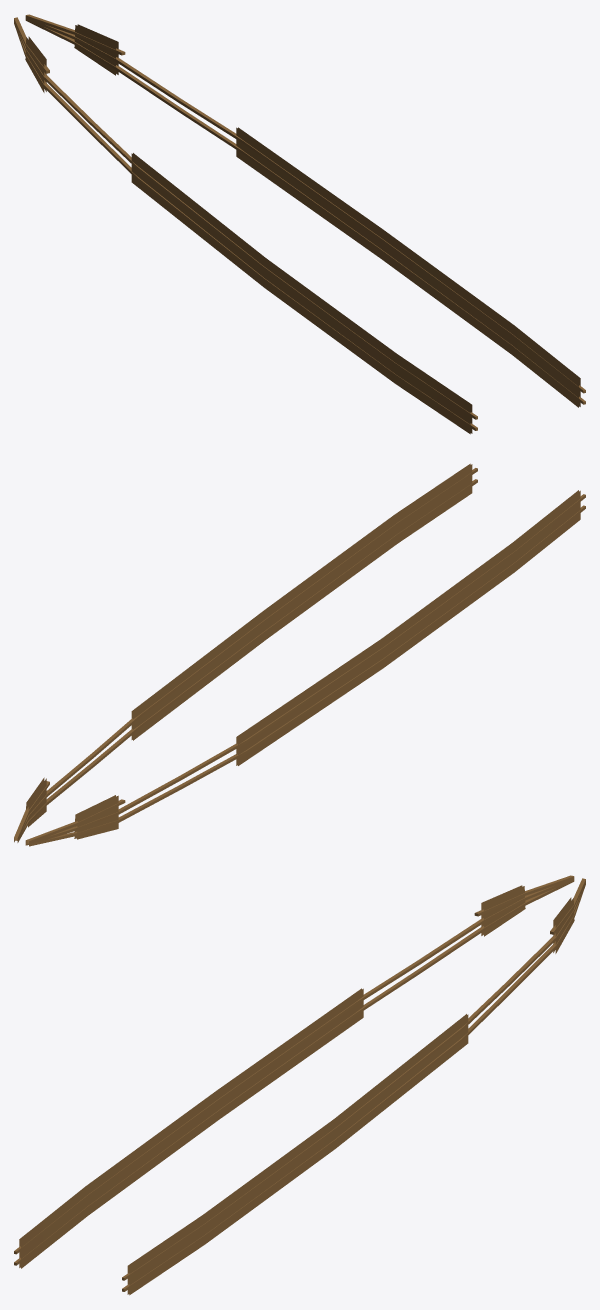
The model's file is pers_bir_fence.dae.
The picture shows the model from 3 angles, top to bottom: view 1: azimuth 30°, elevation 25°; view 2: azimuth 150°, elevation 25°; view 3: azimuth 330°, elevation 25°; orthographic projection.
Visible parts, largest first — view 1: Fence; view 2: Fence; view 3: Fence.
Boxes of the visible parts, <box> form: Fence: <box>14,14,585,434</box>; Fence: <box>14,463,585,846</box>; Fence: <box>14,875,585,1295</box>.
Size of the model in its own units: 4.1 by 30.07 by 1.46.
